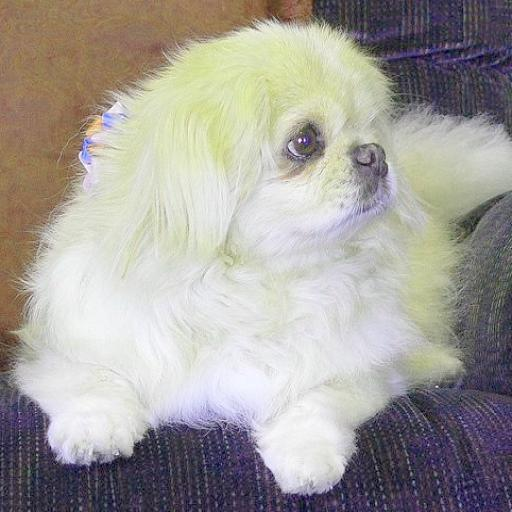dog_face: (108, 30, 394, 272)
